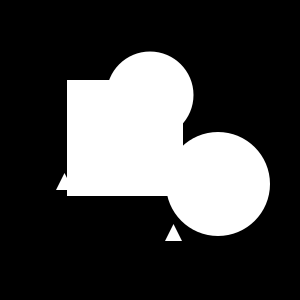circle: (67, 80, 183, 196)
rectangle: (166, 132, 270, 236), (106, 52, 194, 138)
triangle: (56, 173, 73, 190), (165, 224, 182, 241)
